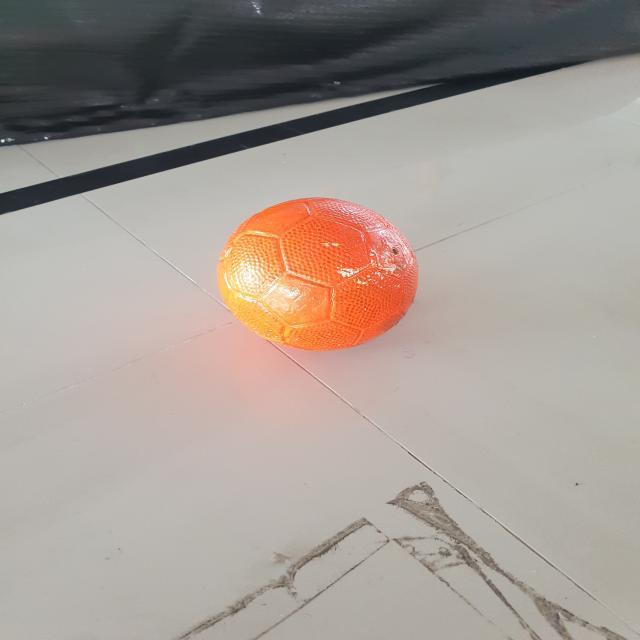bola: (193, 190, 450, 368)
